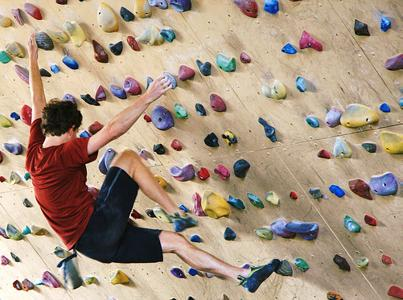person: (25, 34, 282, 294)
